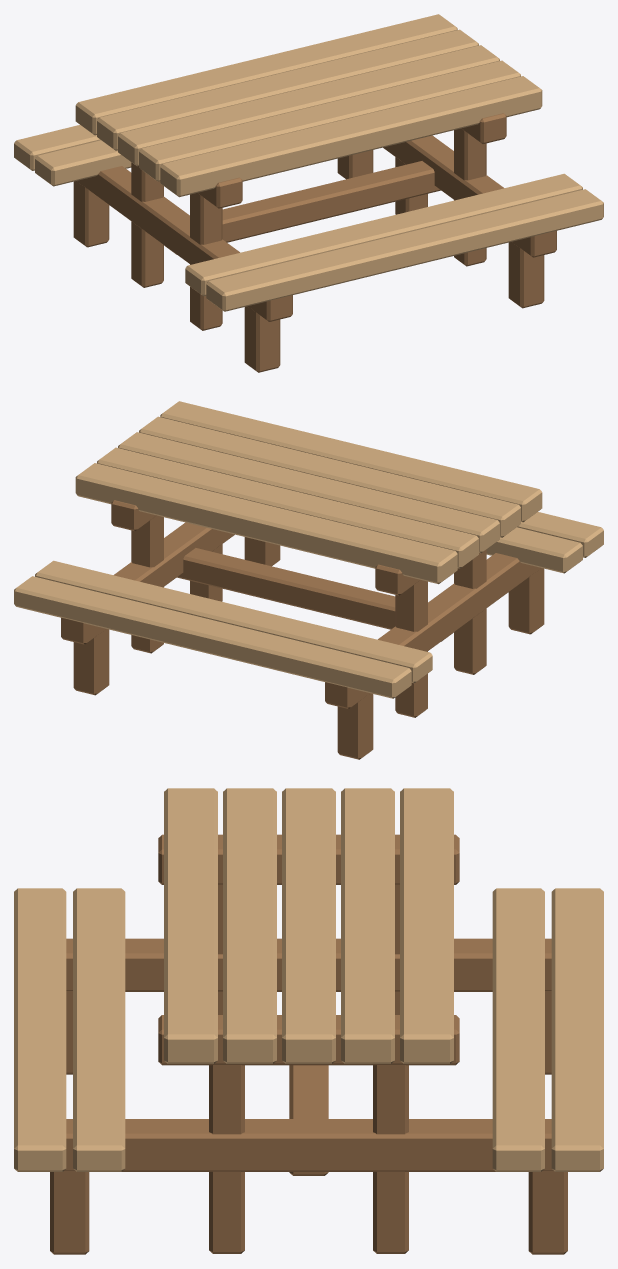
The picture shows the model from 3 angles, top to bottom: view 1: azimuth 30°, elevation 25°; view 2: azimuth 150°, elevation 25°; view 3: azimuth 270°, elevation 25°; orthographic projection. The views are drawn at different scales.
Parts seen in each view (by area): view 1: village-picnic-table-01; view 2: village-picnic-table-01; view 3: village-picnic-table-01.
Part boxes in pixels (box(x1,y1,x2,y2)): village-picnic-table-01: box(14, 14, 603, 372); village-picnic-table-01: box(14, 401, 603, 759); village-picnic-table-01: box(14, 788, 603, 1254).
Size of the model in its own units: 1.88 by 0.83 by 1.8.
